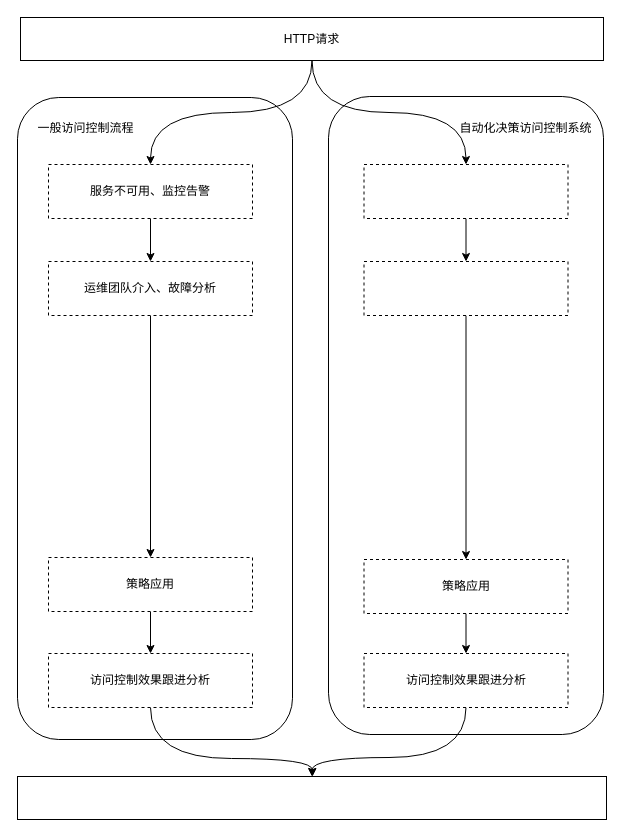
Image size: 624x837. Some labels were removed from this diagram. Each missing label, with the box of its shape:
HTTP结果返回: (16, 776, 606, 820)
根据模型标记请求: (363, 164, 568, 218)
部分标记触发控制策略: (363, 260, 568, 316)
